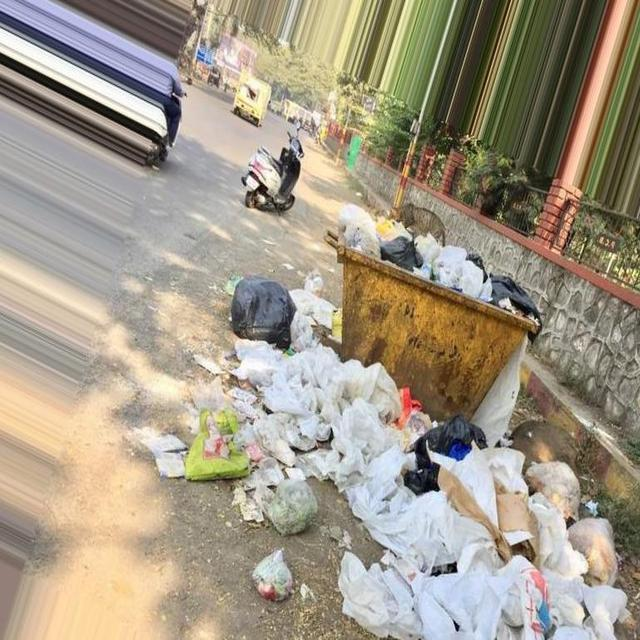garbage: (333, 361, 639, 637), (149, 247, 352, 594), (329, 199, 540, 326)
